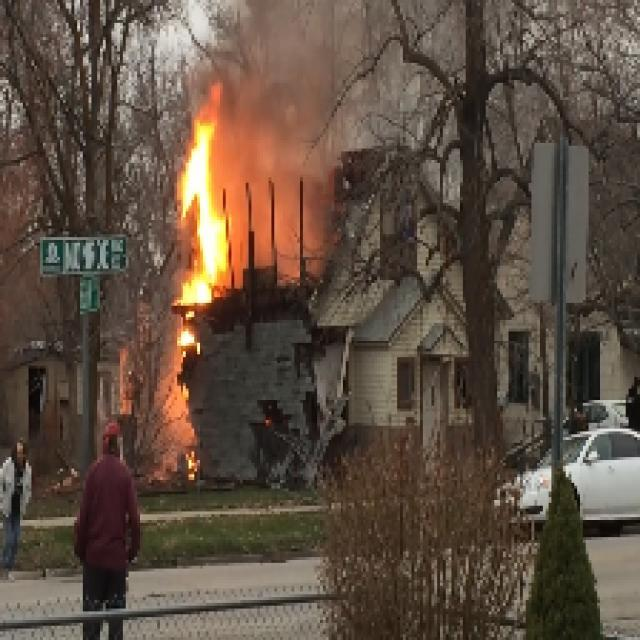Fire: (178, 126, 234, 293), (180, 324, 198, 356)
Smoke: (233, 7, 353, 138)
